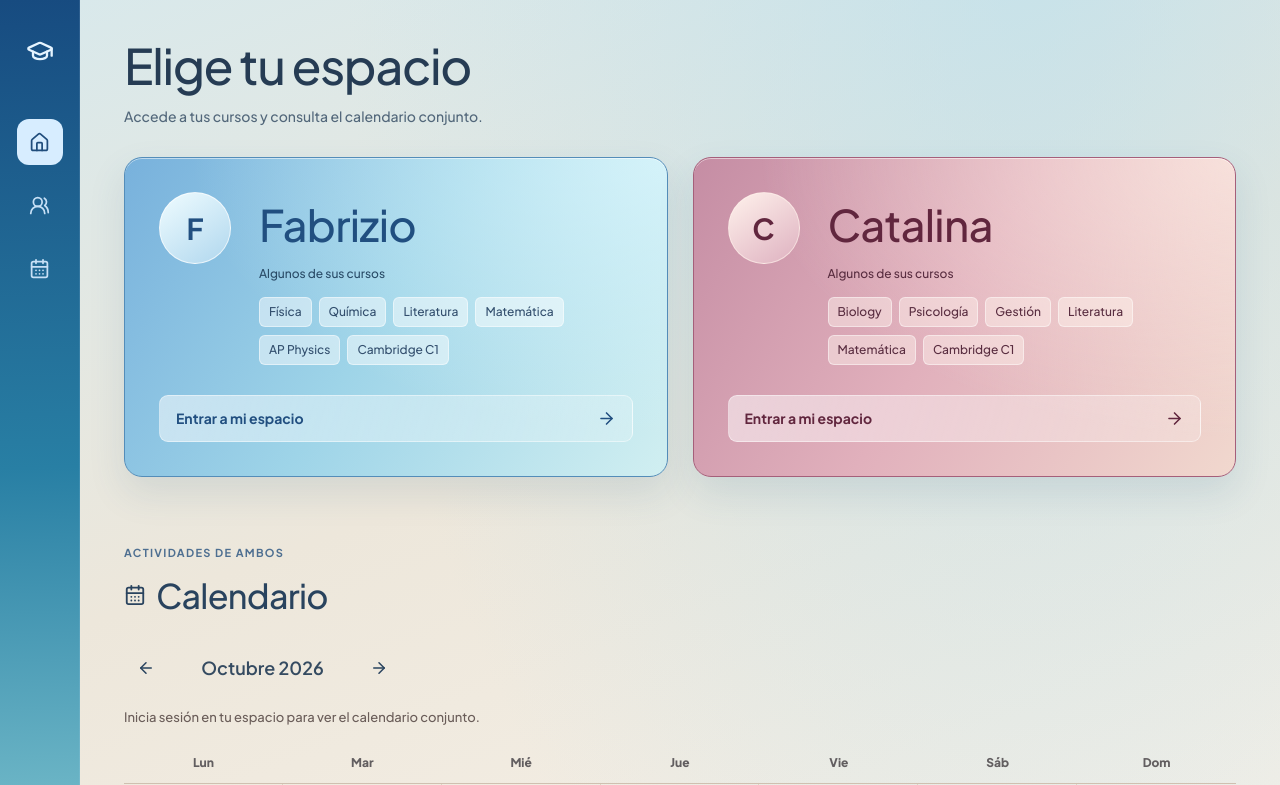
Test: muestra dos tarjetas y un calendario vacío sin revelar datos locales ni consultar actividades anónimas
(page scrolled)
Check: the heading "Elige tu espacio" is shown, box [124,34,471,96]
Check: the heading "Calendario" is shown, box [124,570,328,620]
What coordinates should you click on to do the following:
click the link with aria-label "Entrar al espacio de Catalina"
I would click on:
 (964, 317)
Its box is [692,157,1236,477].
(page scrolled)
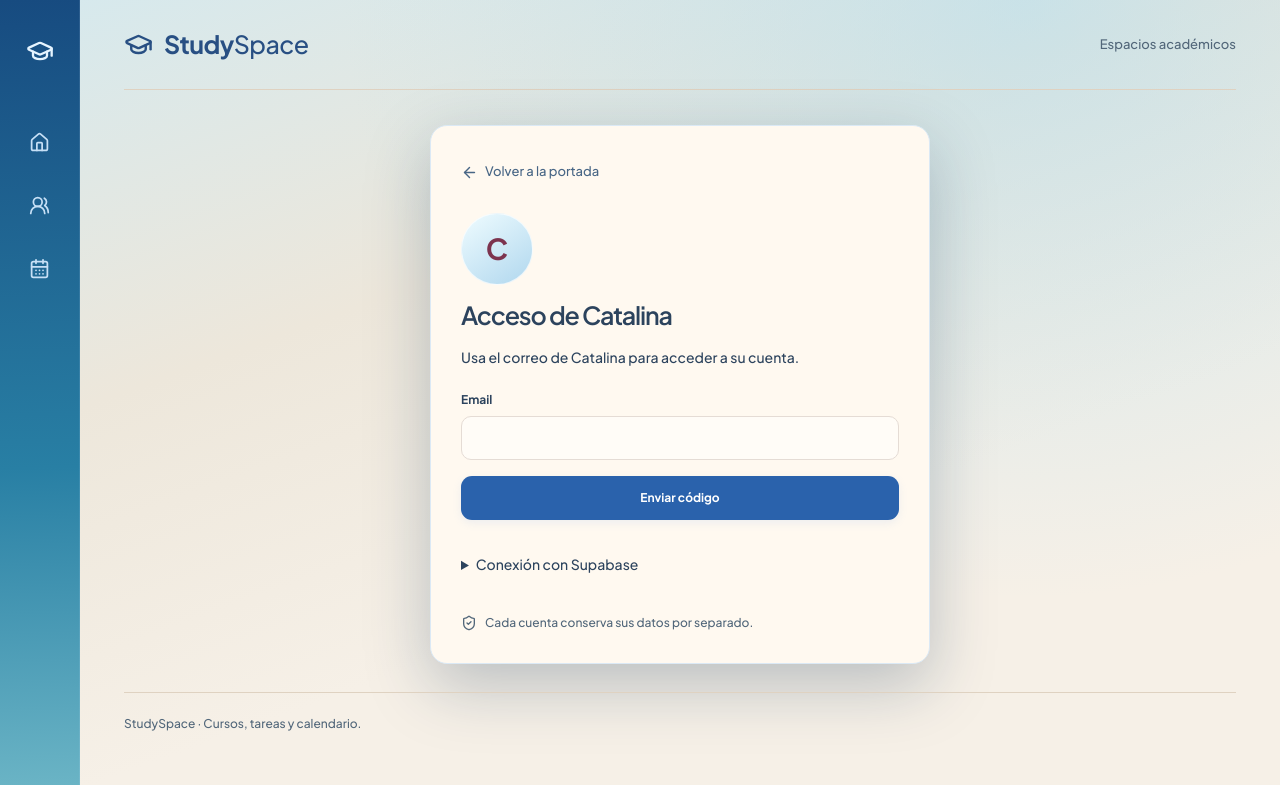
Check: the heading "Acceso de Catalina" is shown, box [461,299,672,331]
Check: the field labelled "Email" is shown, box [461,416,899,460]
